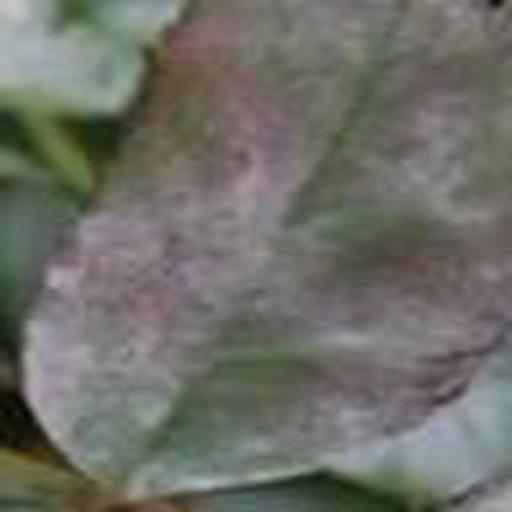powdery_mildew: (22, 0, 512, 512)
